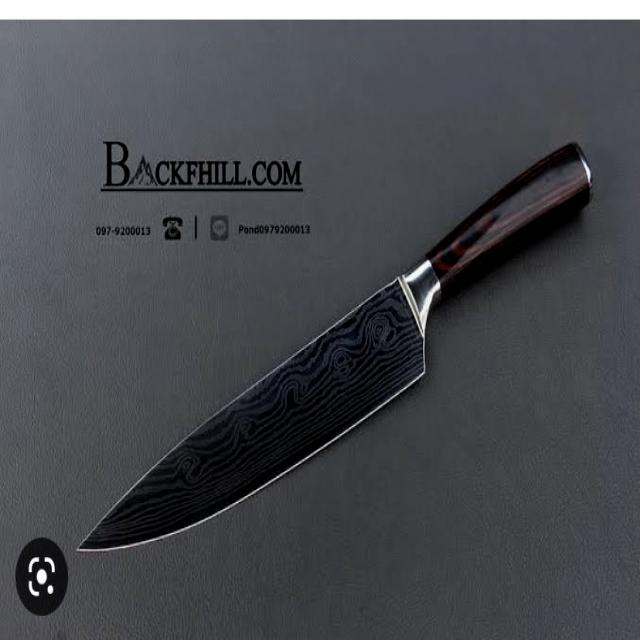knife: (61, 117, 611, 618)
